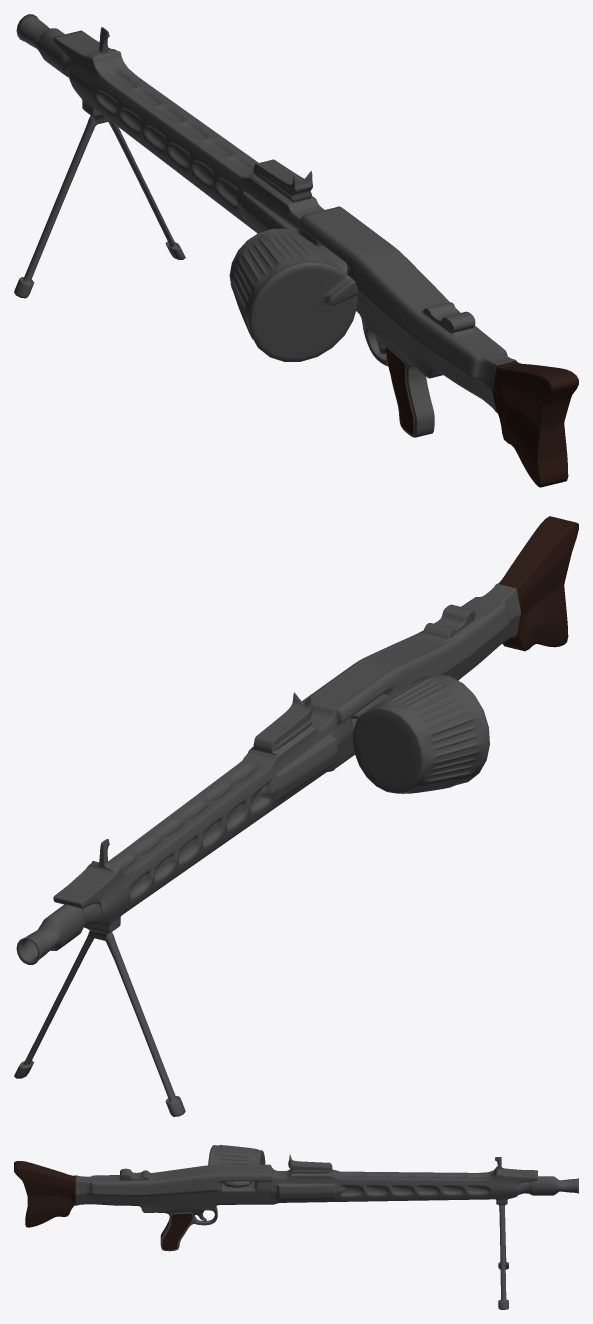
Rendered from mg42_apply.fbx.
The picture shows the model from 3 angles, top to bottom: view 1: azimuth 30°, elevation 25°; view 2: azimuth 150°, elevation 25°; view 3: azimuth 270°, elevation 25°; orthographic projection. The views are drawn at different scales.
Parts seen in each view (by area): view 1: Cube, Cylinder; view 2: Cube, Cylinder; view 3: Cube, Cylinder.
Part boxes in pixels (bbox=[...]): Cube: bbox=[14, 14, 578, 487]; Cylinder: bbox=[229, 228, 358, 361]; Cube: bbox=[14, 516, 578, 1116]; Cylinder: bbox=[351, 674, 489, 793]; Cube: bbox=[14, 1154, 578, 1309]; Cylinder: bbox=[208, 1145, 265, 1187].
Bounding box in the file's own units: 126 × 149 × 575.
